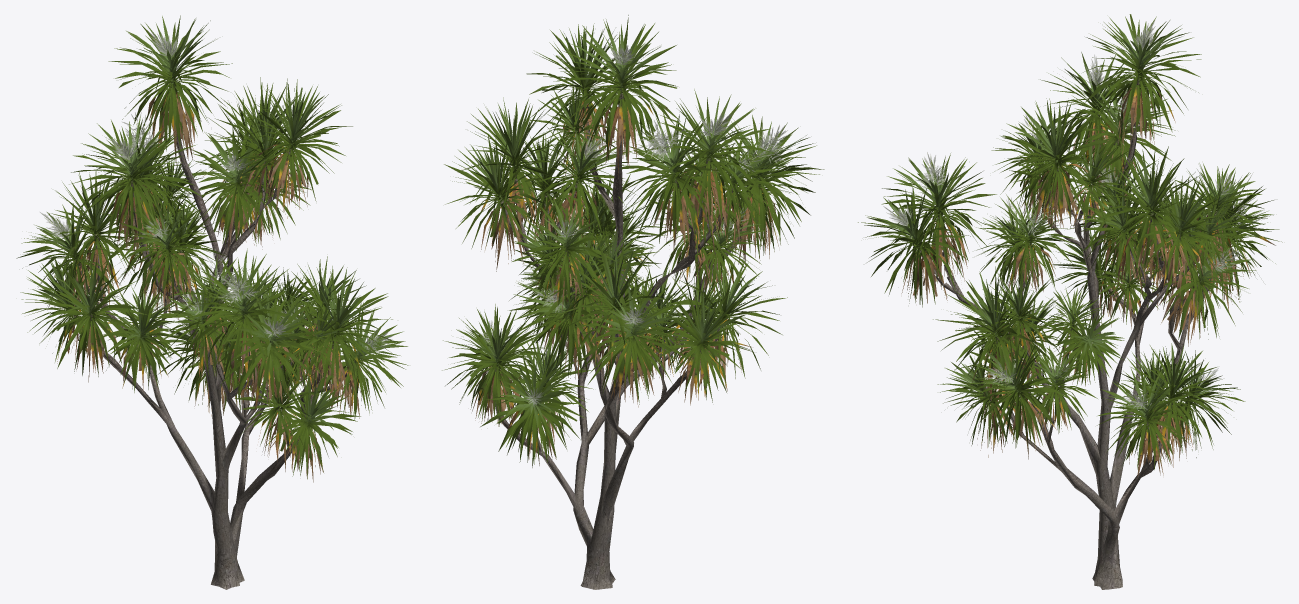
File: realistic_hd_cabbage_tree_950.glb
The picture shows the model from 3 angles, left to right: view 1: azimuth 30°, elevation 25°; view 2: azimuth 150°, elevation 25°; view 3: azimuth 270°, elevation 25°; orthographic projection. The views are drawn at different scales.
Visible parts, largest first — view 1: Cordyline_australis_HD; view 2: Cordyline_australis_HD; view 3: Cordyline_australis_HD.
Part boxes in pixels (box(x1,y1,x2,y2)): Cordyline_australis_HD: box(16, 15, 408, 589); Cordyline_australis_HD: box(442, 15, 824, 589); Cordyline_australis_HD: box(858, 14, 1282, 589).
Bounding box in the file's own units: 2.7 × 4.58 × 3.29.
Materials: 10 (10 with a texture image).
